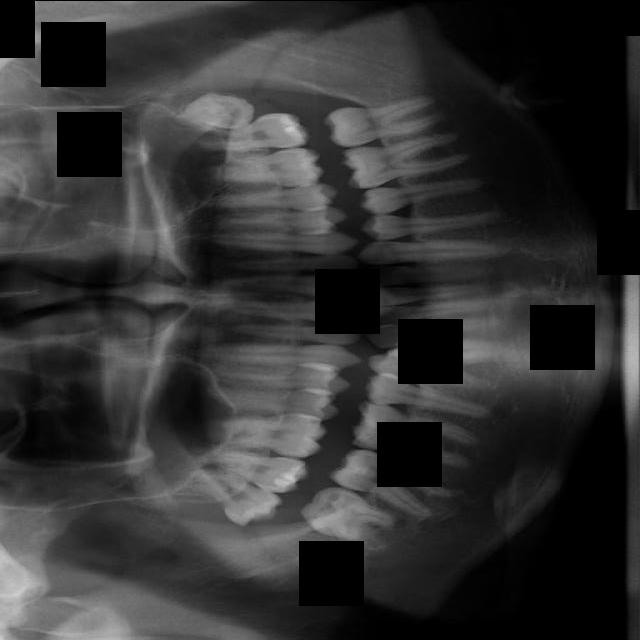3M ESPE Implant: (183, 453, 285, 537)
73: (609, 13, 622, 23)
BioHorizons Implant: (195, 111, 310, 150)
BioLife Implant: (171, 88, 256, 134)
Blue Sky Bio Implant: (321, 88, 450, 150)
Caries: (209, 449, 309, 494)
Implant: (325, 437, 454, 522)
Keystone Dental Implant: (297, 476, 400, 553)
